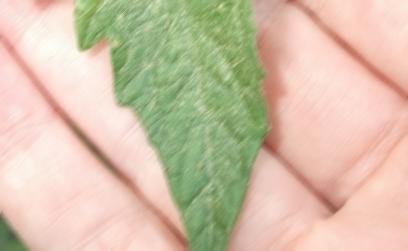Tomato mold leaf: (7, 0, 343, 251)
